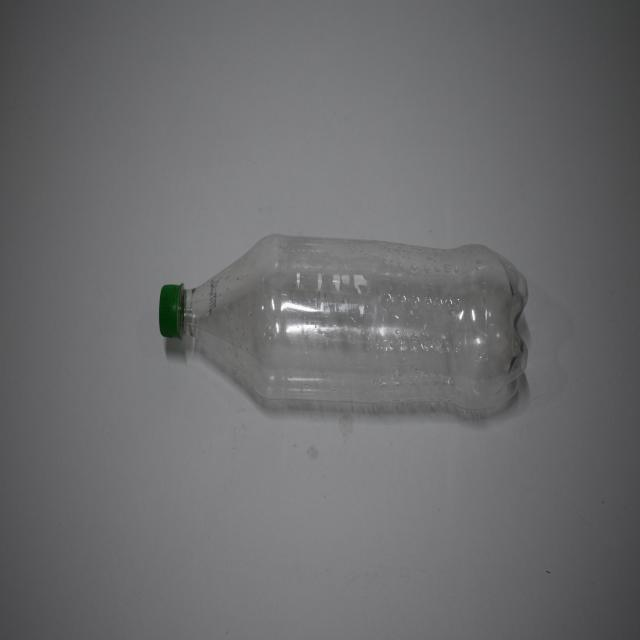empty: (159, 235, 528, 409)
